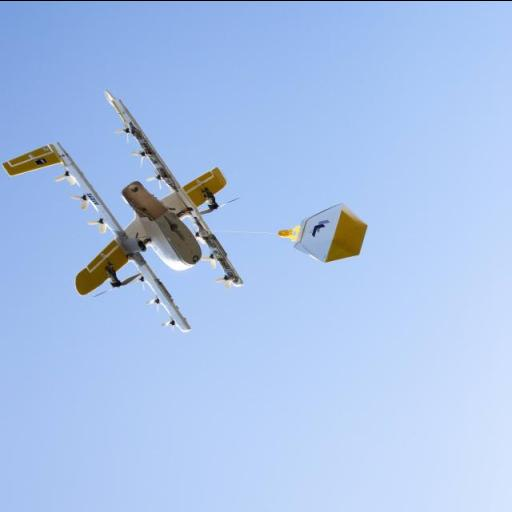uav: (2, 89, 248, 331)
